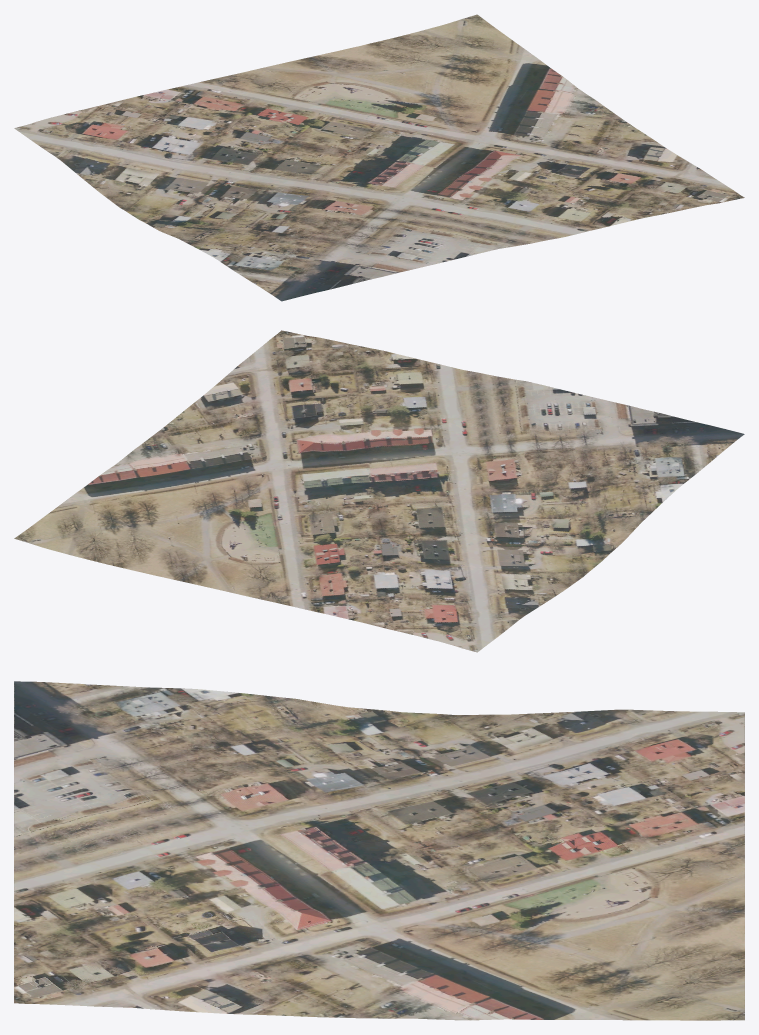
File: CM_Terrain_24488820_6819384.fbx
3 views of the same model, one above another, from view 1: azimuth 30°, elevation 25°; view 2: azimuth 150°, elevation 25°; view 3: azimuth 270°, elevation 25° (orthographic). The views are drawn at different scales.
Parts seen in each view (by area): view 1: CM_Terrain_24488820_6819384_LOD0; view 2: CM_Terrain_24488820_6819384_LOD0; view 3: CM_Terrain_24488820_6819384_LOD0.
Boxes of the visible parts, box(x1,y1,x2,y2) form: CM_Terrain_24488820_6819384_LOD0: box(14, 14, 744, 301); CM_Terrain_24488820_6819384_LOD0: box(14, 330, 744, 652); CM_Terrain_24488820_6819384_LOD0: box(14, 681, 744, 1020).
Size of what is drawn, in the model's own units: 205 by 10.63 by 205.
